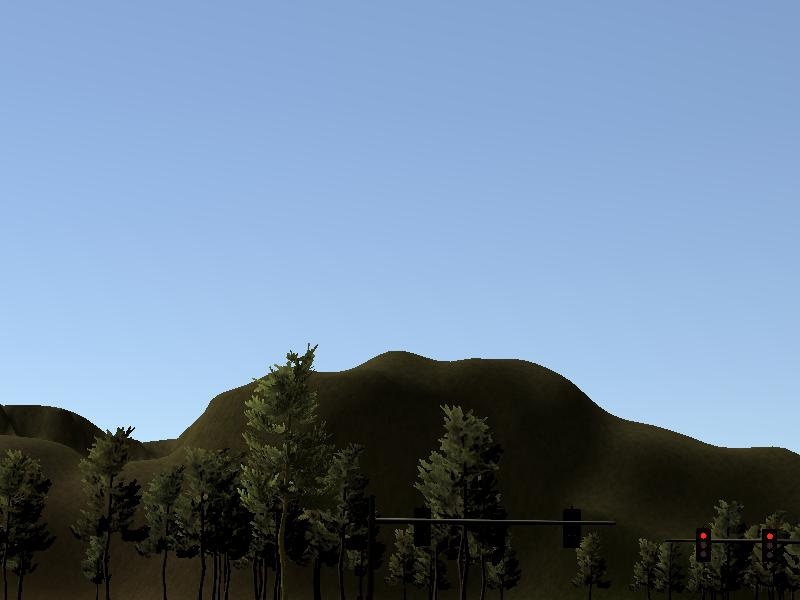RED: (757, 525, 786, 579), (689, 522, 720, 571)
